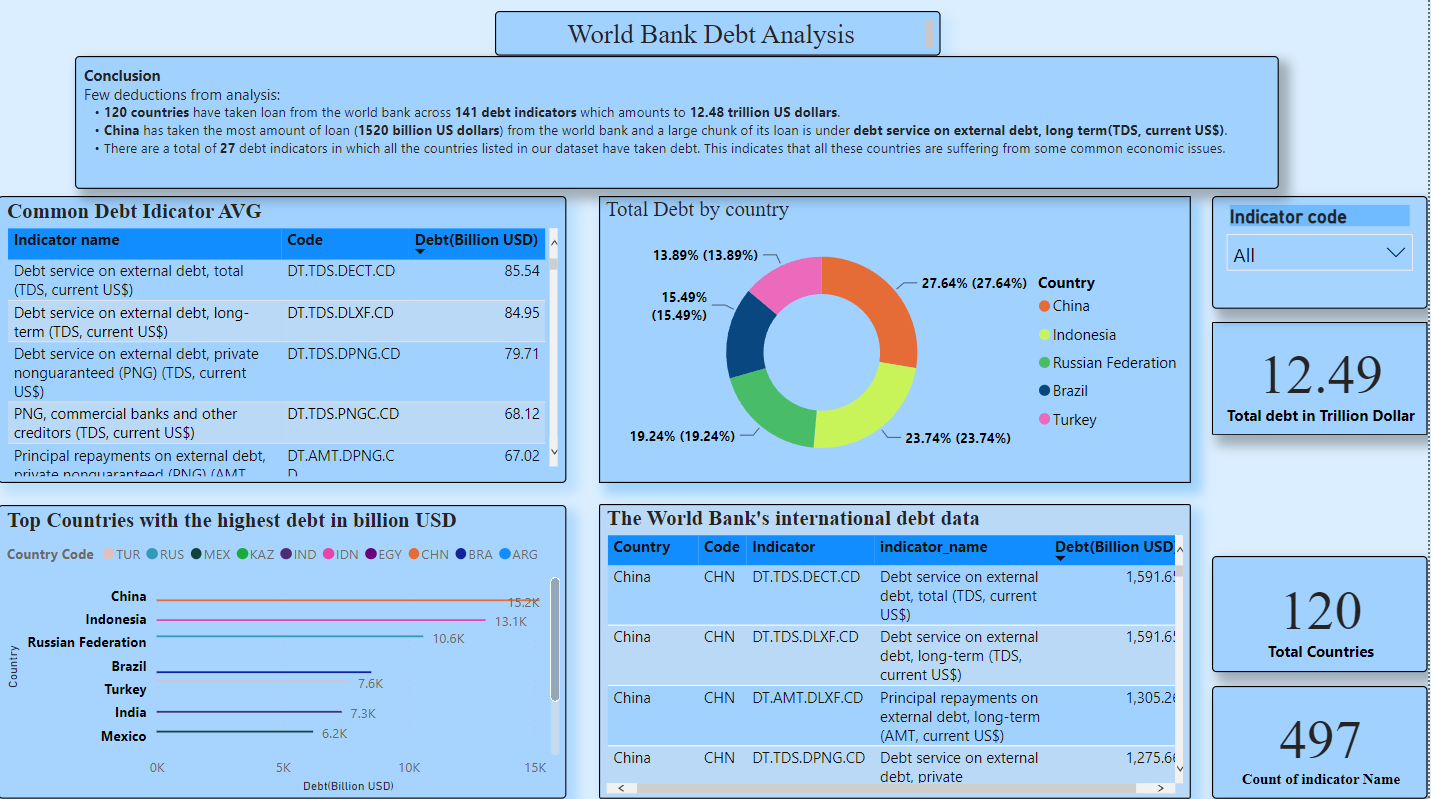

The page's visual inventory and layout, read from the dashboard file:
{"tool":"powerbi","page":{"name":"Page 1","canvas":[1280,720],"ordinal":0},"visuals":[{"type":"clusteredBarChart","title":"Top  Countries with the highest debt in billion USD","fields":{"Category":["IDS_revised_data_2020.country_name"],"Series":["IDS_revised_data_2020.country_code"],"Y":["Sum(IDS_revised_data_2020.Debt(Billion USD))"]},"box":[0,456.7,508.7,263.3],"z":0},{"type":"textbox","box":[445.5,14.6,398.8,39.9],"z":1000},{"type":"card","fields":{"Values":["IDS_revised_data_2020.Total Countries"]},"box":[1087.2,502.4,192.5,103.9],"z":2000},{"type":"card","fields":{"Values":["IDS_revised_data_2020.Total debt in Trillion Dollar"]},"box":[1087.2,292.8,192.5,101.2],"z":3000},{"type":"tableEx","title":"The World Bank''s international debt data","fields":{"Values":["IDS_revised_data_2020.country_name","IDS_revised_data_2020.country_code","IDS_revised_data_2020.indicator_code","IDS_revised_data_2020.indicator_name","Sum(IDS_revised_data_2020.Debt(Billion USD))"]},"box":[538.2,455.8,530.1,264.2],"z":4000},{"type":"slicer","fields":{"Values":["IDS_revised_data_2020.indicator_code"]},"box":[1087.2,180,192.5,101.2],"z":5000},{"type":"tableEx","title":"Common Debt Idicator AVG","fields":{"Values":["IDS_revised_data_2020.indicator_name","IDS_revised_data_2020.indicator_code","Avg(IDS_revised_data_2020.Debt(Billion USD))"]},"box":[0,180,508.7,257],"z":6000},{"type":"donutChart","fields":{"Category":["IDS_revised_data_2020.country_name"],"Y":["IDS_revised_data_2020.Total debt in Trillion Dollar"]},"box":[538.2,180,530.1,257],"z":7000},{"type":"card","fields":{"Values":["Count(IDS_revised_data_2020.indicator_name)"]},"box":[1087.2,618.8,192.5,101.2],"z":8000},{"type":"textbox","box":[69,54.6,1078.2,119.1],"z":8001}]}

Visuals, with their boxes in screenshot pixels (x1, y1, x2, y2), scaled from the page's 1280x720 canvas onto the 1431x799 screenshot:
"Top  Countries with the highest debt in billion USD" clusteredBarChart: [0, 507, 569, 798]
textbox: [498, 16, 944, 60]
card - IDS_revised_data_2020.Total Countries: [1215, 558, 1430, 673]
card - IDS_revised_data_2020.Total debt in Trillion Dollar: [1215, 325, 1430, 437]
"The World Bank''s international debt data" tableEx: [602, 506, 1194, 798]
slicer - IDS_revised_data_2020.indicator_code: [1215, 200, 1430, 312]
"Common Debt Idicator AVG" tableEx: [0, 200, 569, 485]
donutChart - IDS_revised_data_2020.country_name x IDS_revised_data_2020.Total debt in Trillion Dollar: [602, 200, 1194, 485]
card - Count(IDS_revised_data_2020.indicator_name): [1215, 687, 1430, 798]
textbox: [77, 61, 1283, 193]
